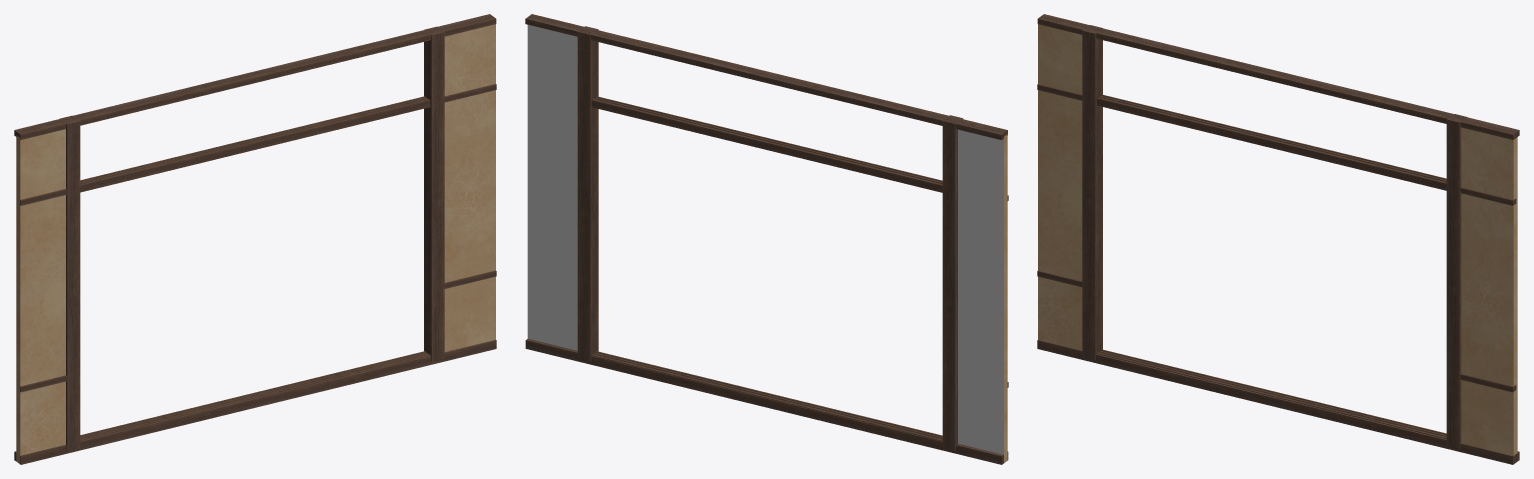
File: jov_outwall01_2t_to_d2.fbx
3 renders of one model, left to right at view 1: azimuth 30°, elevation 25°; view 2: azimuth 150°, elevation 25°; view 3: azimuth 330°, elevation 25°, orthographic.
Parts seen in each view (by area): view 1: jov_outwall01_2t_to_d2; view 2: jov_outwall01_2t_to_d2; view 3: jov_outwall01_2t_to_d2.
Part boxes in pixels (x1,y1,x2,y2): jov_outwall01_2t_to_d2: (14, 14, 496, 464); jov_outwall01_2t_to_d2: (525, 14, 1008, 464); jov_outwall01_2t_to_d2: (1037, 14, 1519, 464).
Size of the model in its own units: 440 by 292 by 12.44.
